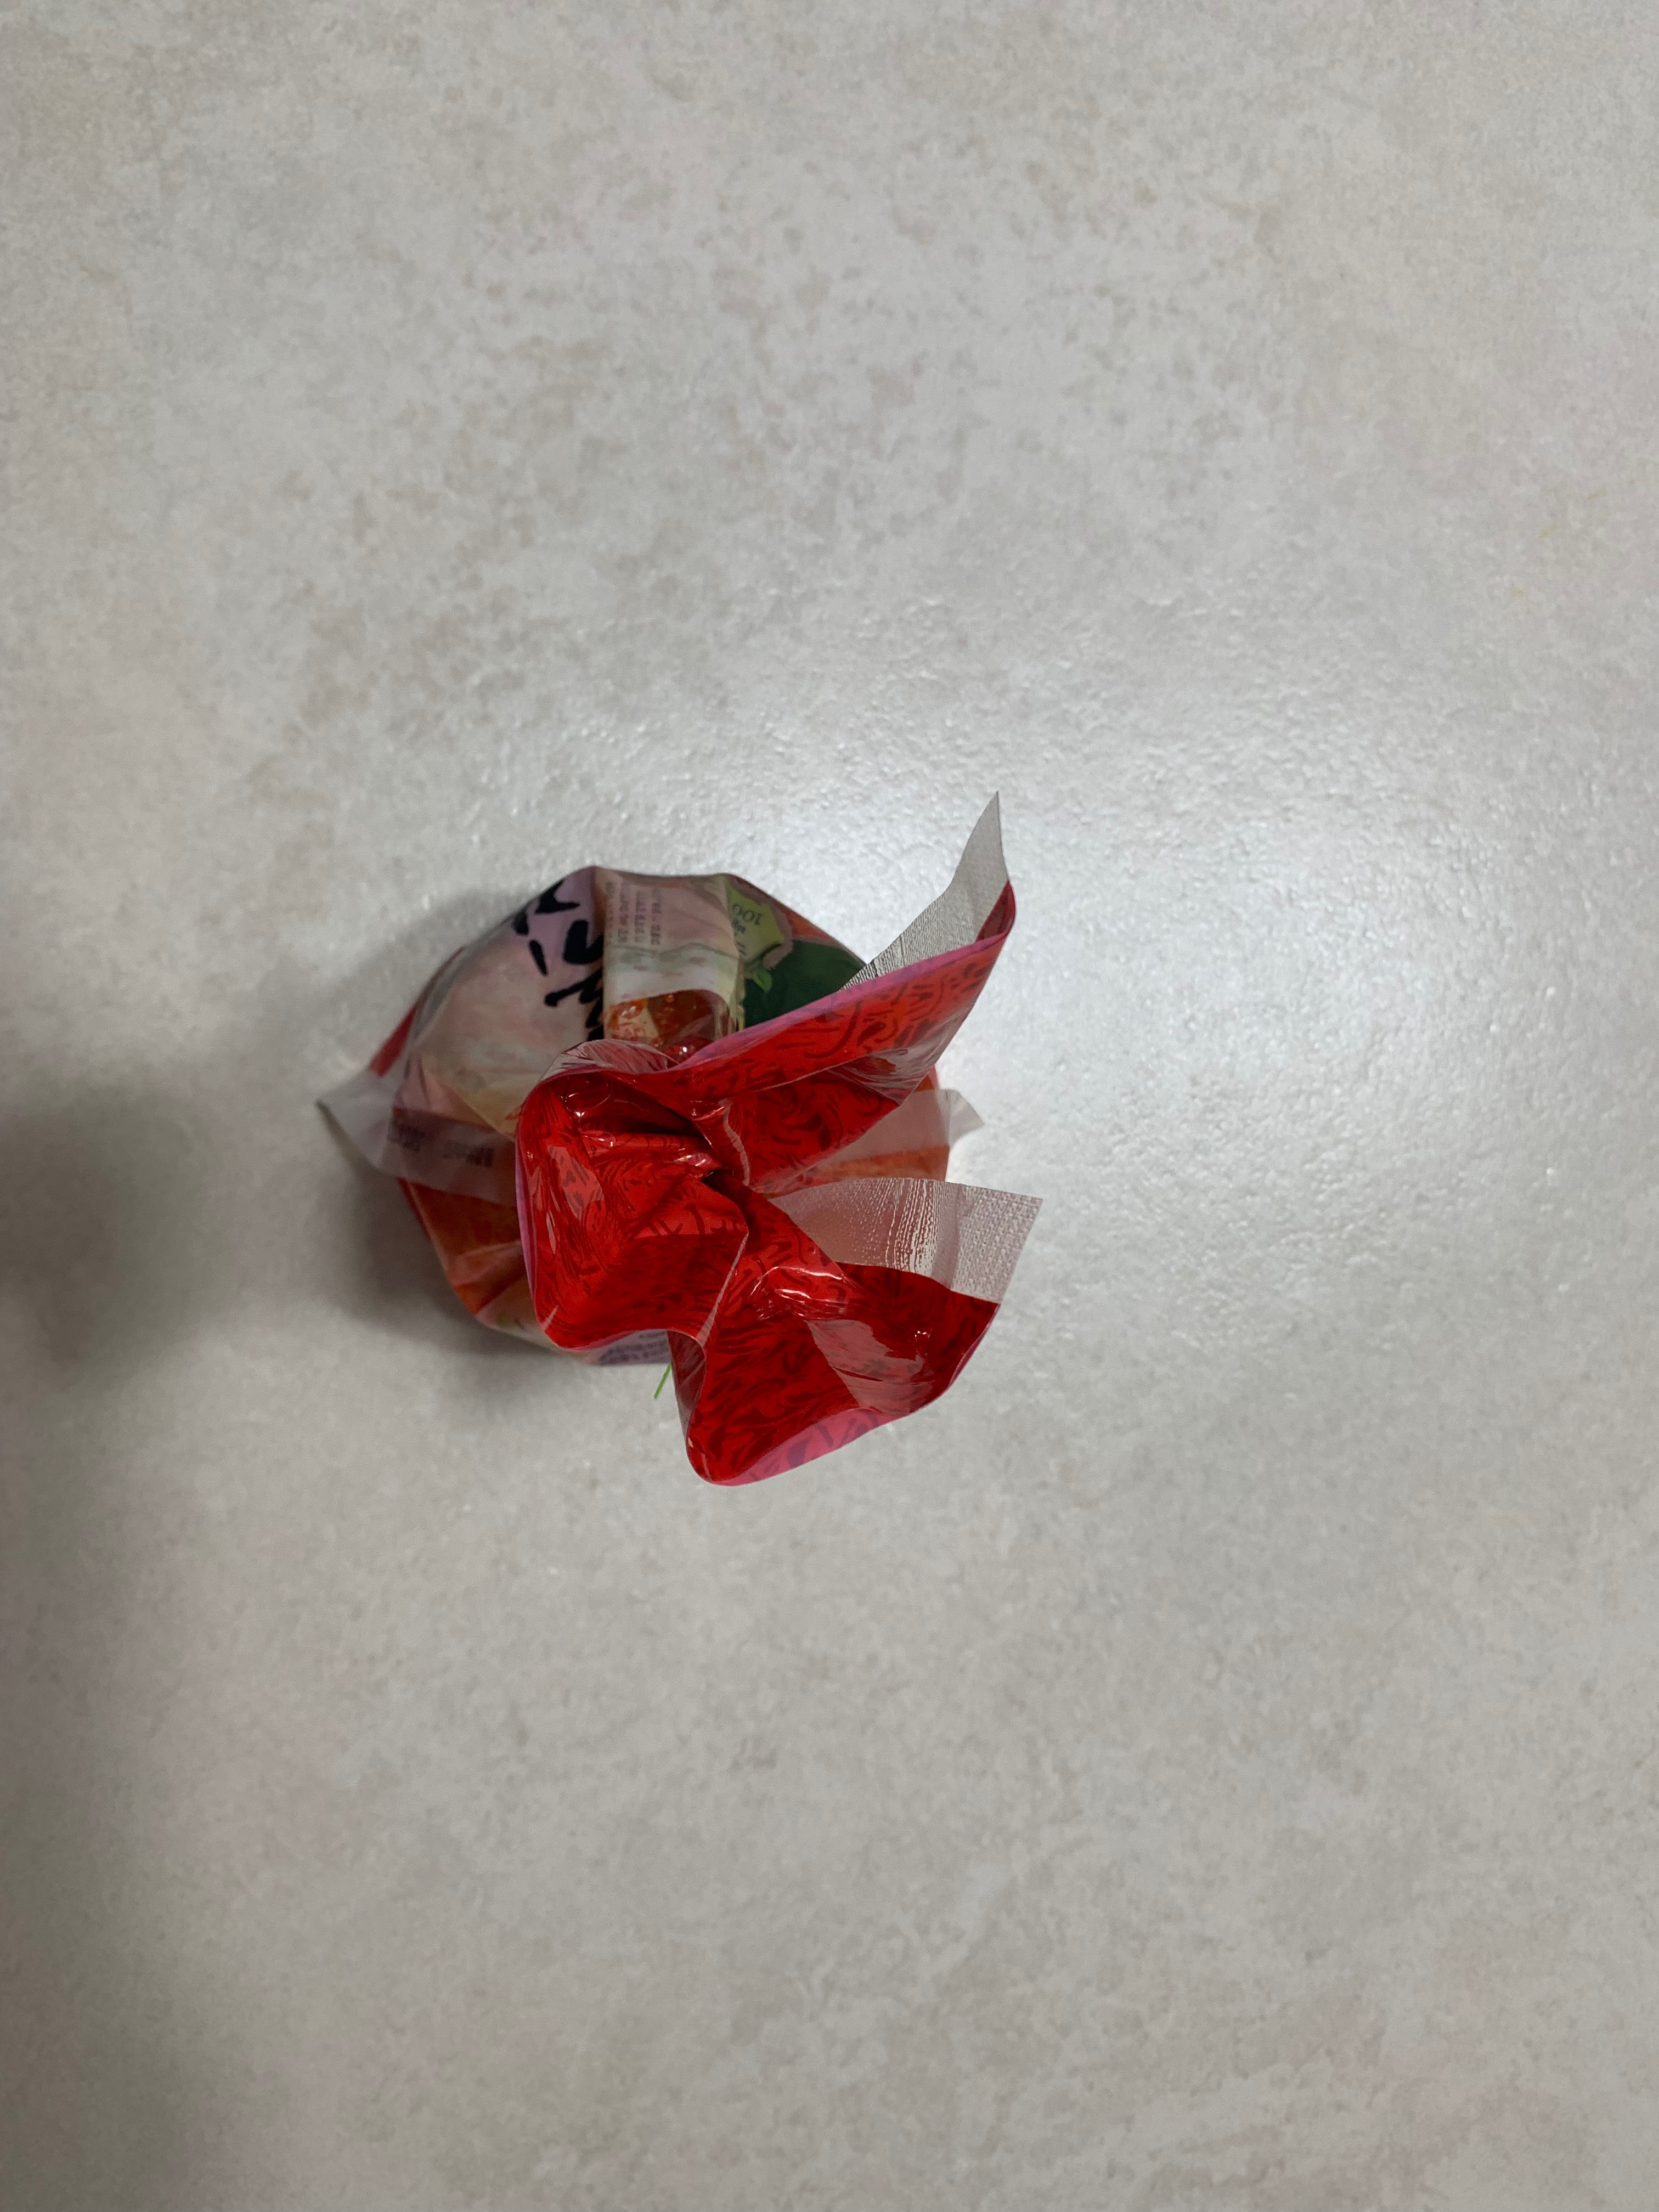kimchi: (328, 857, 1044, 1484)
